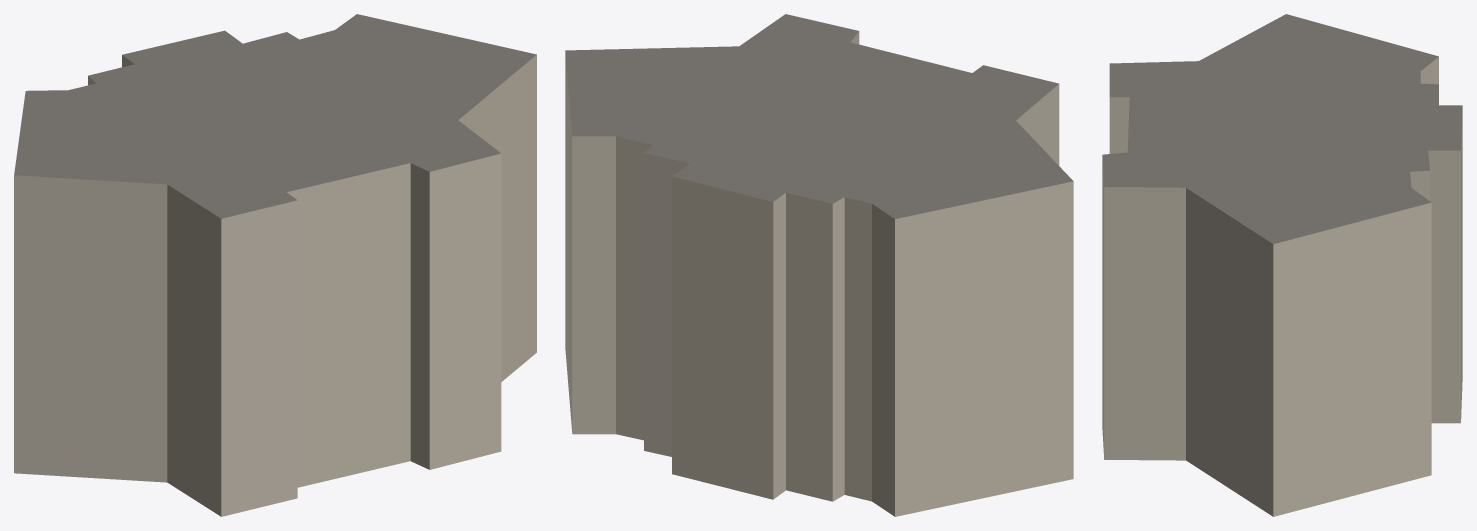
3 renders of one model, left to right at view 1: azimuth 30°, elevation 25°; view 2: azimuth 150°, elevation 25°; view 3: azimuth 270°, elevation 25°, orthographic. The views are drawn at different scales.
Visible parts, largest first — view 1: HP-w299010064; view 2: HP-w299010064; view 3: HP-w299010064.
Boxes of the visible parts, box(x1,y1,x2,y2) form: HP-w299010064: box(14, 14, 536, 516); HP-w299010064: box(565, 14, 1073, 516); HP-w299010064: box(1102, 14, 1462, 516).
Bounding box in the file's own units: 32.6 × 18 × 21.55.
